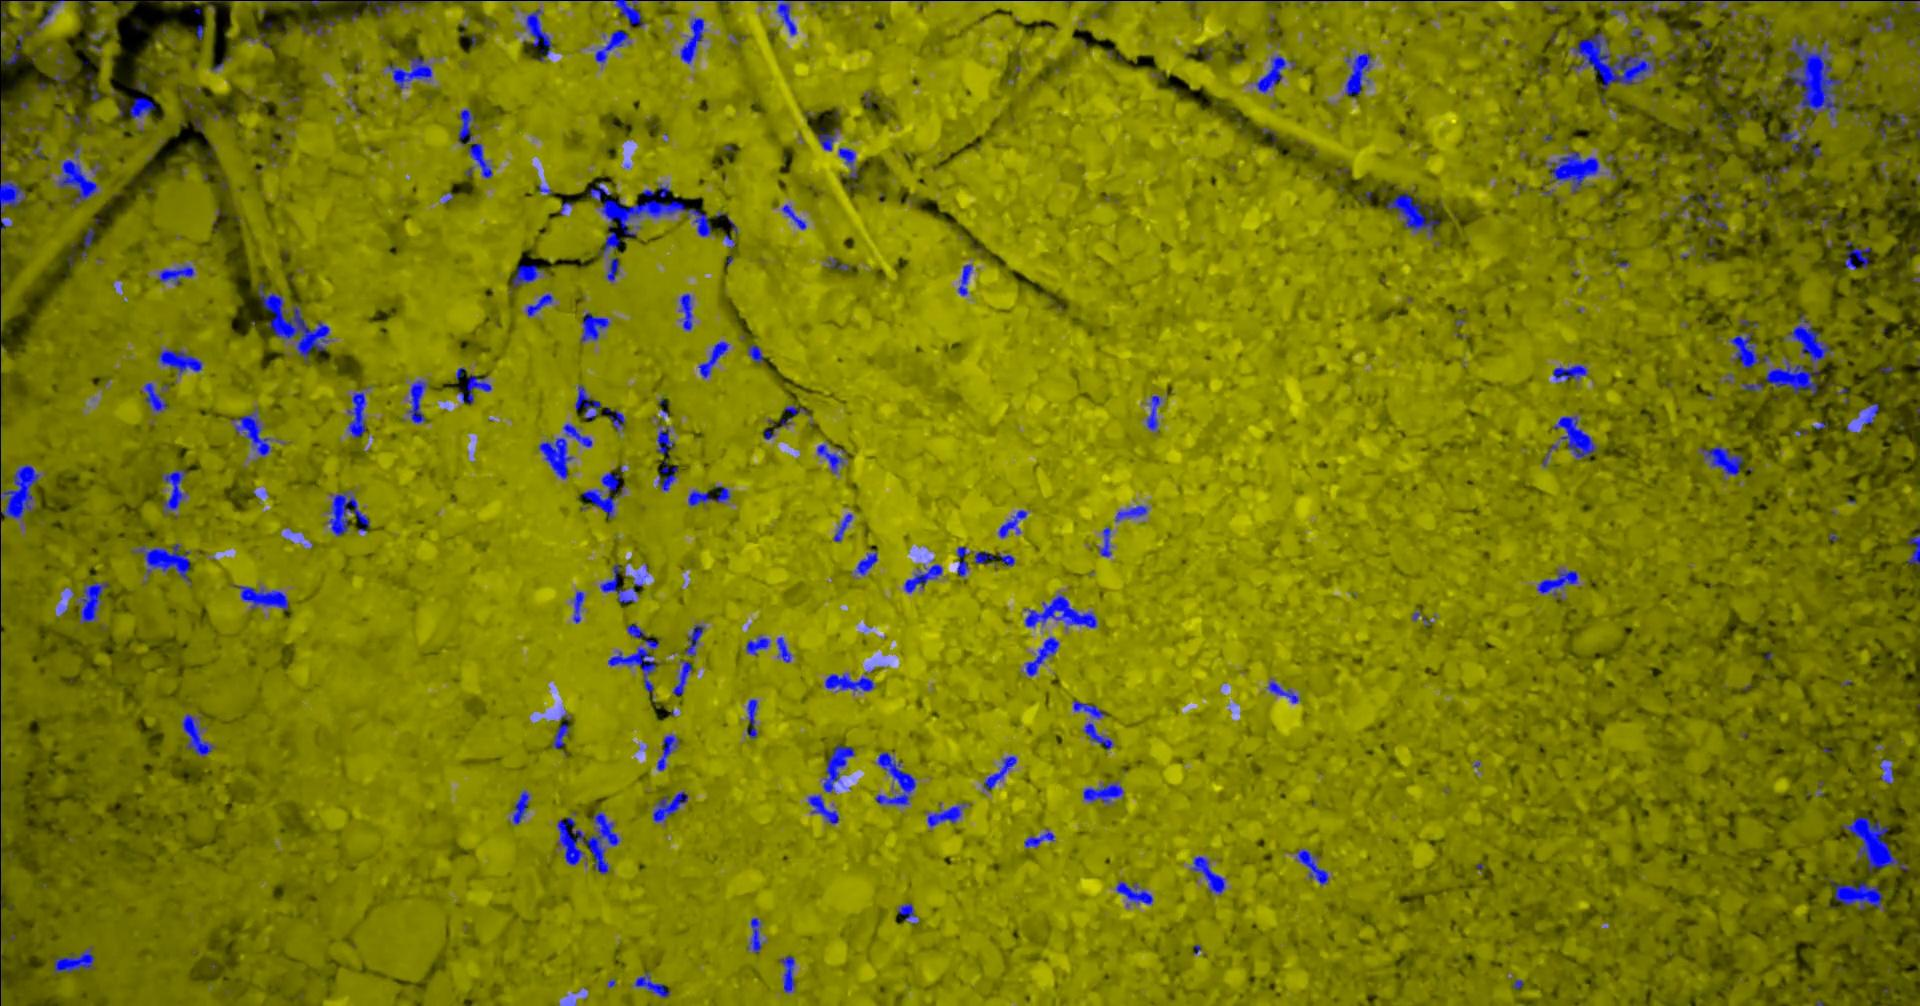ant: (607, 622, 659, 701), (0, 130, 25, 287), (130, 542, 190, 586), (57, 141, 97, 206), (1385, 189, 1439, 236), (1023, 594, 1096, 627), (458, 108, 491, 178), (874, 751, 916, 805), (578, 471, 626, 518), (325, 490, 370, 536), (1550, 415, 1597, 459), (230, 406, 270, 456), (1830, 880, 1884, 911), (822, 743, 855, 793), (1255, 55, 1295, 93), (386, 55, 430, 89), (1728, 332, 1769, 368), (524, 8, 552, 61), (1699, 445, 1743, 478), (538, 437, 573, 479), (182, 713, 215, 756), (232, 584, 288, 610), (1190, 855, 1225, 894), (18, 0, 63, 30), (599, 563, 634, 602), (1025, 636, 1059, 676), (4, 24, 36, 65), (77, 580, 108, 622), (1343, 52, 1371, 97), (594, 29, 630, 64), (1877, 108, 1911, 144), (982, 754, 1016, 790), (697, 340, 729, 379), (1537, 570, 1577, 600), (157, 348, 202, 375), (1295, 848, 1328, 884), (161, 469, 187, 514), (903, 564, 942, 593), (679, 17, 703, 64), (651, 790, 687, 822), (53, 946, 95, 973), (926, 801, 969, 826), (824, 671, 875, 691), (632, 970, 669, 997), (0, 756, 5, 948), (458, 373, 491, 403), (579, 311, 610, 342), (808, 794, 838, 824), (347, 391, 366, 438), (613, 0, 644, 29), (817, 443, 847, 473), (1115, 880, 1152, 904), (406, 380, 427, 423), (687, 485, 730, 506), (1082, 781, 1123, 803), (574, 384, 599, 418), (997, 509, 1027, 537), (1082, 721, 1112, 749), (1844, 239, 1870, 271), (157, 263, 194, 285), (657, 733, 678, 770), (1614, 0, 1666, 15), (141, 382, 168, 412), (775, 0, 796, 36), (1266, 680, 1299, 702), (510, 264, 542, 287), (524, 292, 552, 318), (850, 550, 877, 575), (672, 659, 691, 695), (745, 917, 764, 953), (563, 423, 590, 447), (510, 790, 530, 824), (1072, 699, 1105, 718), (657, 460, 677, 490), (781, 205, 806, 229), (778, 955, 795, 992), (684, 624, 703, 655), (780, 404, 808, 426), (1552, 365, 1587, 381), (657, 420, 674, 453), (552, 713, 569, 748), (128, 97, 154, 119), (838, 147, 857, 178), (1023, 828, 1054, 847), (260, 0, 350, 6), (1145, 395, 1161, 431), (833, 513, 852, 541), (817, 127, 839, 150), (1114, 506, 1148, 521), (678, 293, 692, 330), (1879, 0, 1919, 13), (604, 406, 625, 431), (745, 635, 770, 655), (1695, 212, 1727, 227), (745, 699, 757, 738), (1097, 526, 1111, 558), (1860, 401, 1878, 426), (1867, 15, 1895, 30), (957, 264, 971, 295), (1542, 441, 1558, 466), (571, 589, 584, 622), (386, 0, 433, 9), (897, 902, 916, 923), (364, 0, 389, 17), (81, 227, 94, 258), (776, 636, 791, 662), (1543, 0, 1575, 11), (1774, 124, 1796, 141), (300, 23, 328, 36), (1907, 533, 1919, 564), (604, 257, 618, 281), (1879, 758, 1893, 782), (956, 546, 968, 575), (763, 418, 778, 439), (827, 257, 850, 271), (747, 343, 762, 363), (1798, 117, 1811, 141), (1760, 173, 1777, 191), (1697, 29, 1710, 50), (1713, 0, 1747, 8), (974, 551, 994, 564), (997, 553, 1015, 567), (1710, 191, 1723, 208), (1807, 144, 1821, 158), (1741, 382, 1763, 391), (1675, 0, 1702, 6), (0, 953, 1, 1005)
